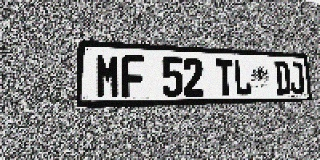2: (183, 57, 204, 97)
5: (162, 56, 184, 97)
D: (274, 61, 291, 95)
F: (121, 55, 145, 98)
J: (289, 62, 305, 94)
L: (233, 60, 252, 96)
M: (95, 54, 121, 98)
T: (215, 59, 235, 96)
